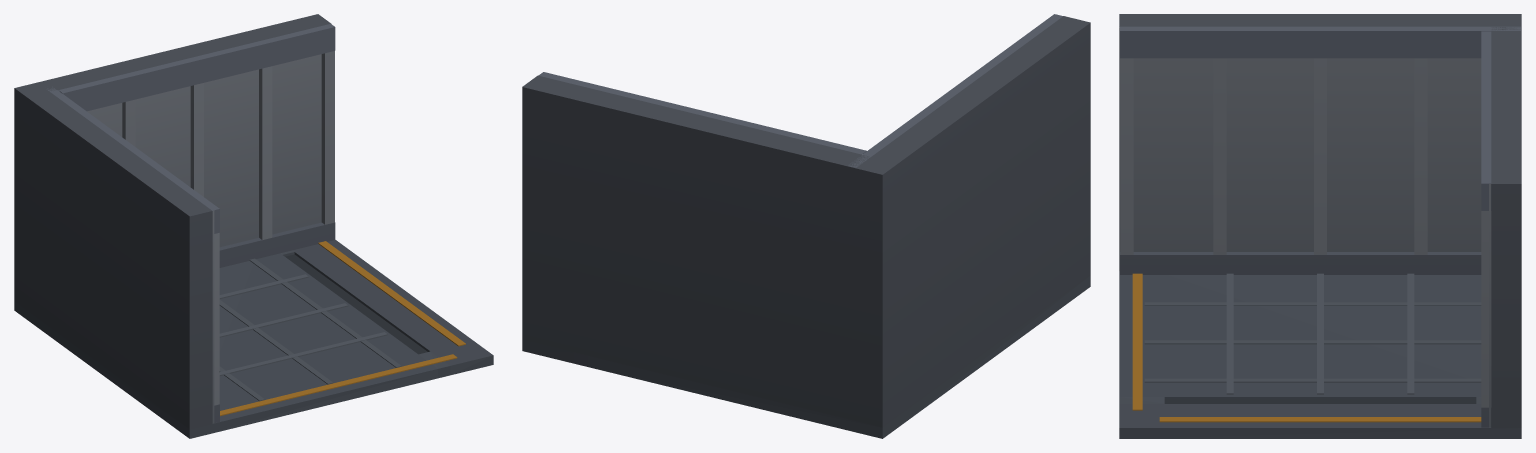
File: corridor-corner.glb
3 renders of one model, left to right at view 1: azimuth 30°, elevation 25°; view 2: azimuth 150°, elevation 25°; view 3: azimuth 270°, elevation 25°, orthographic. The views are drawn at different scales.
Visible parts, largest first — view 1: corridor_corner; view 2: corridor_corner; view 3: corridor_corner.
Part boxes in pixels (x1,y1,x2,y2): corridor_corner: [14, 14, 493, 438]; corridor_corner: [522, 14, 1090, 438]; corridor_corner: [1119, 14, 1521, 438].
Size of the model in its own units: 4 by 2.8 by 4.
